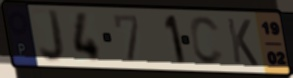1: (163, 13, 188, 67)
4: (71, 10, 105, 65)
7: (110, 13, 142, 64)
C: (188, 15, 227, 68)
J: (38, 8, 67, 65)
K: (225, 16, 261, 69)
